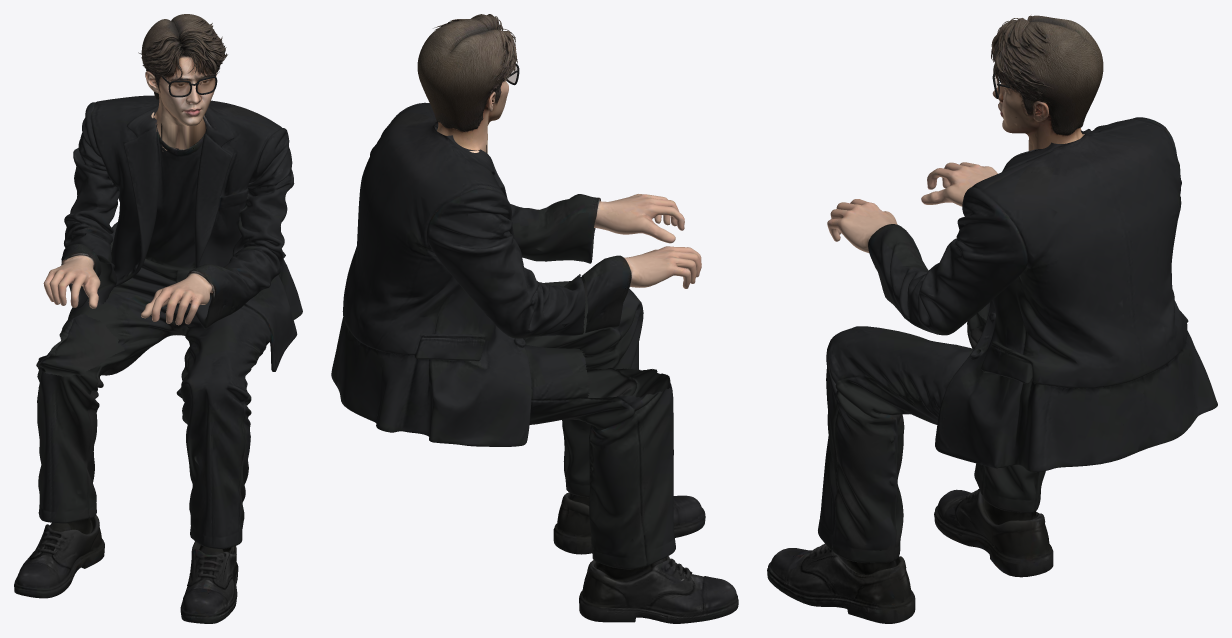
File: avatar-v2-mobile-packed.glb
The picture shows the model from 3 angles, left to right: view 1: azimuth 30°, elevation 25°; view 2: azimuth 150°, elevation 25°; view 3: azimuth 270°, elevation 25°; orthographic projection. The views are drawn at different scales.
Parts seen in each view (by area): view 1: avatar_body, head_surface, avatar_body_matched_hand; view 2: avatar_body, head_surface, avatar_body_matched_hand; view 3: avatar_body, head_surface, avatar_body_matched_hand.
Boxes of the visible parts, bbox=[...] form: avatar_body: bbox=[14, 95, 302, 623]; head_surface: bbox=[138, 14, 227, 150]; avatar_body_matched_hand: bbox=[43, 244, 101, 308]; avatar_body: bbox=[331, 102, 738, 623]; head_surface: bbox=[417, 14, 517, 153]; avatar_body_matched_hand: bbox=[581, 246, 701, 332]; avatar_body: bbox=[767, 117, 1217, 623]; head_surface: bbox=[991, 15, 1103, 150]; avatar_body_matched_hand: bbox=[921, 162, 997, 206].
Size of the model in its own units: 1 by 1.53 by 1.02.
Materials: 4 (2 with a texture image).
